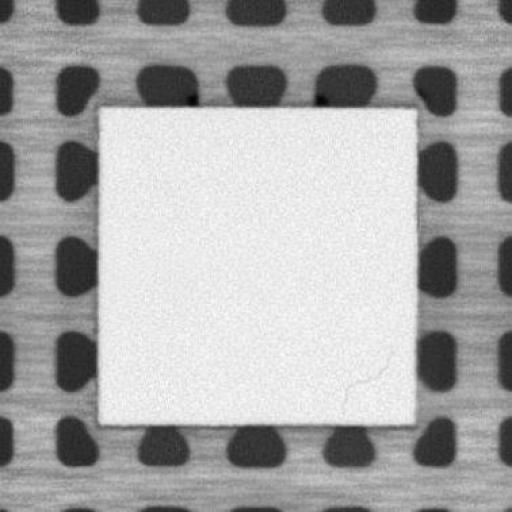DIE_CRACK: (338, 350, 396, 416)
